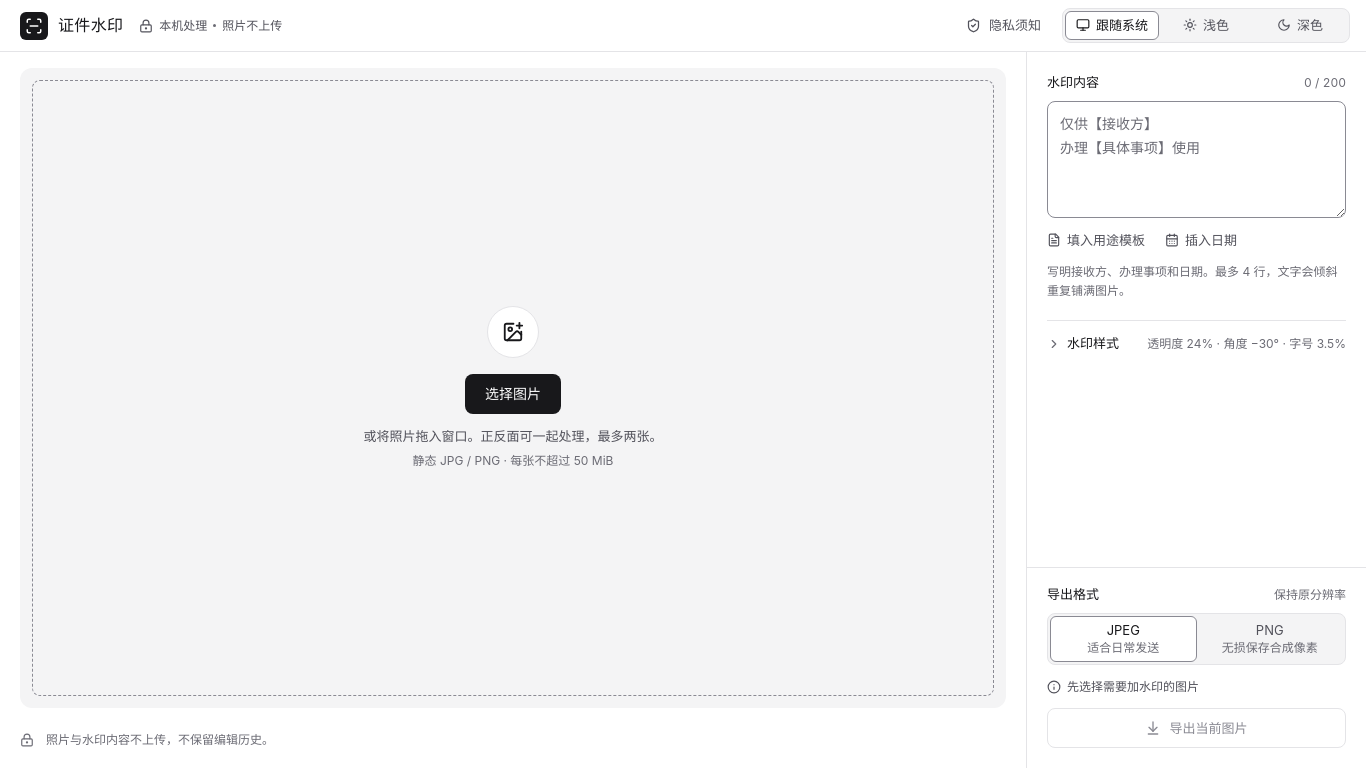
it: the format radio group decides the exported format
This screenshot has width=1366, height=768.
Later steps or results of the test are not shown.
Click the button "选择图片" at coordinates (90, 388), box [32,80,994,696]
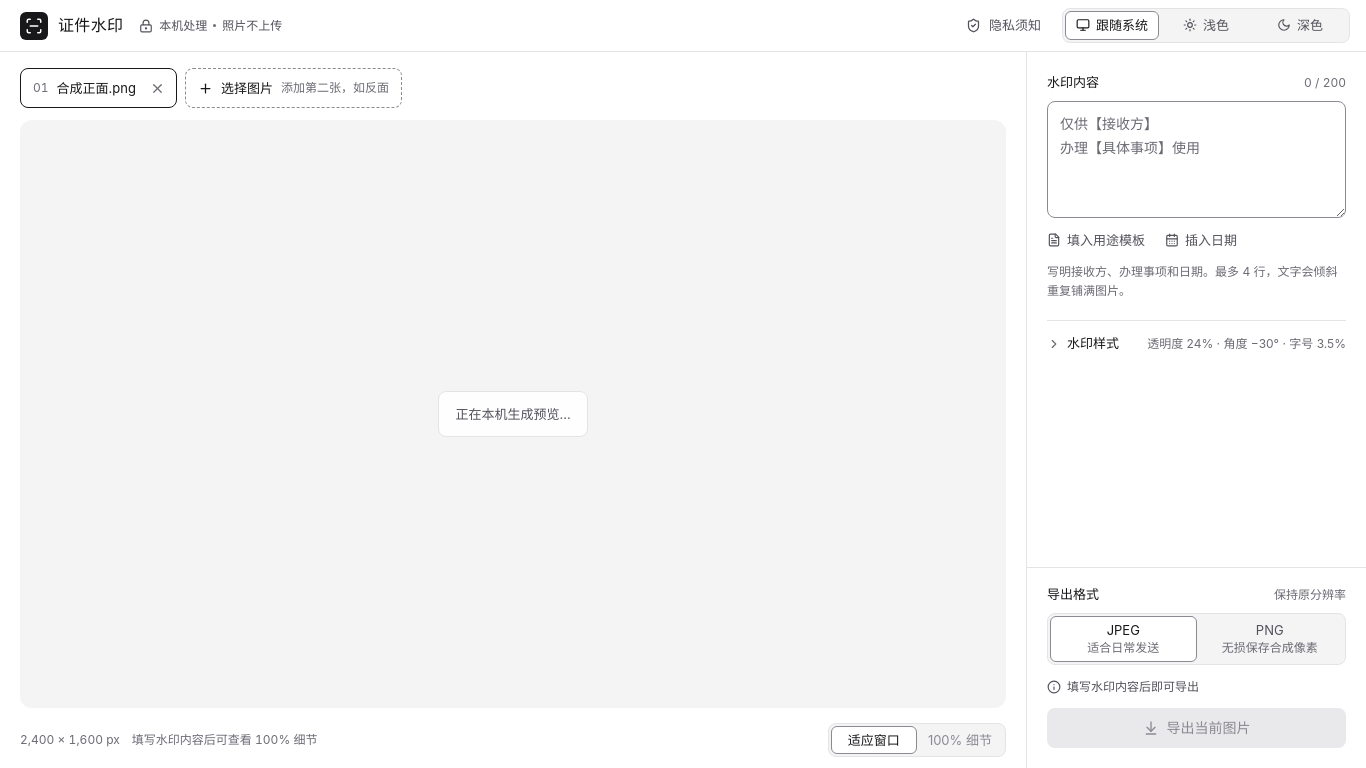
Expected: the text "合成正面.png" is shown, [57,78,136,98]
Type "仅供测试使用" into the text box labelled "水印内容" at coordinates (1196, 159), box [1047,101,1346,218]
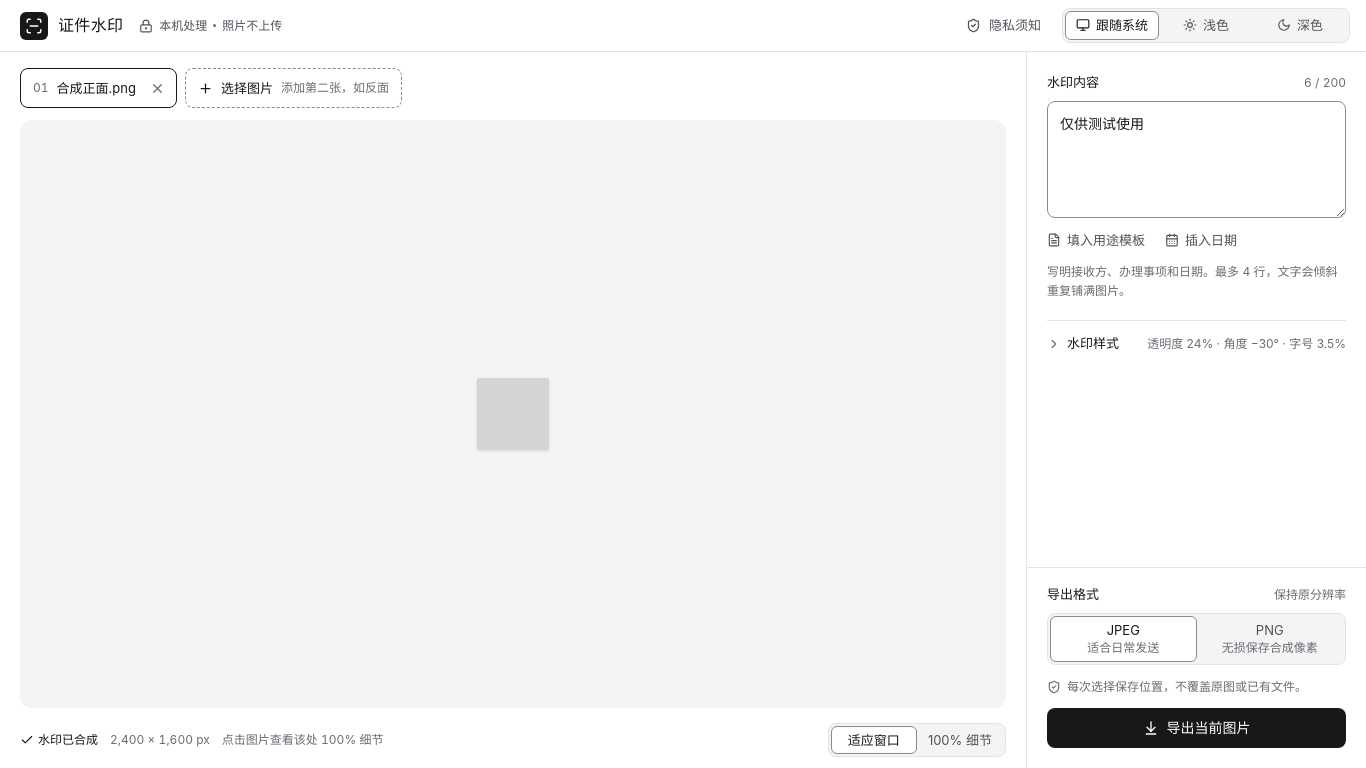
Expected: the radio button labelled "JPEG" is checked, [1050,616,1196,662]
Expected: the button "导出当前图片" is enabled, [1047,708,1346,748]
